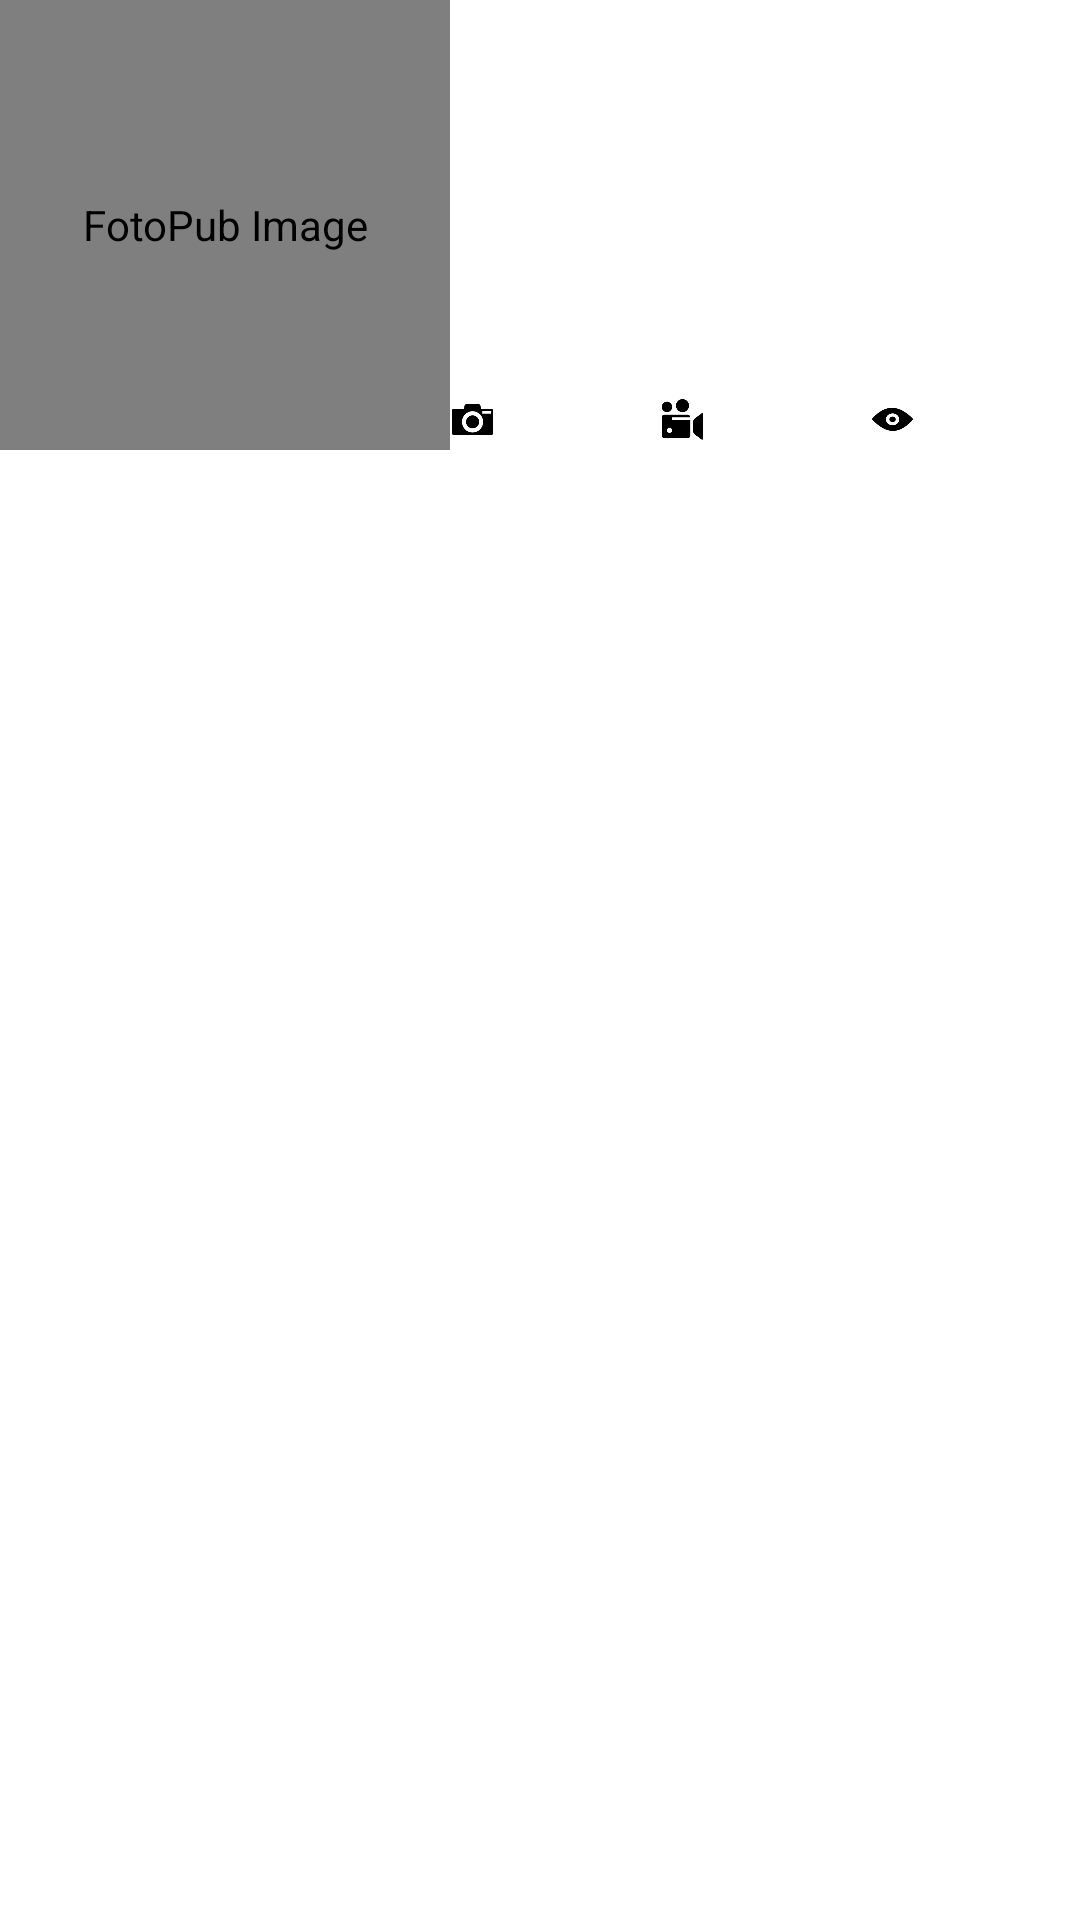

Where to tap for icons on this 1080w x 1920h app screen, as (x,y):
photos: (472,419)
videos: (682,419)
views: (892,419)
